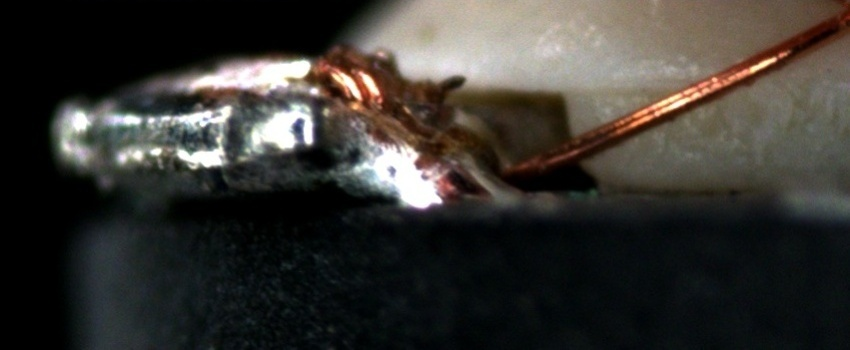DL: (599, 68, 716, 127)
TE: (325, 41, 399, 126)
